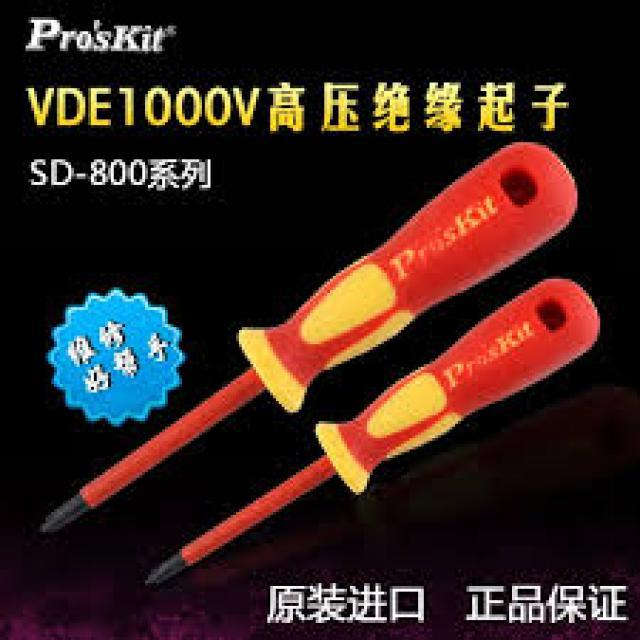screwdriver: (38, 140, 579, 536), (140, 278, 602, 590)
